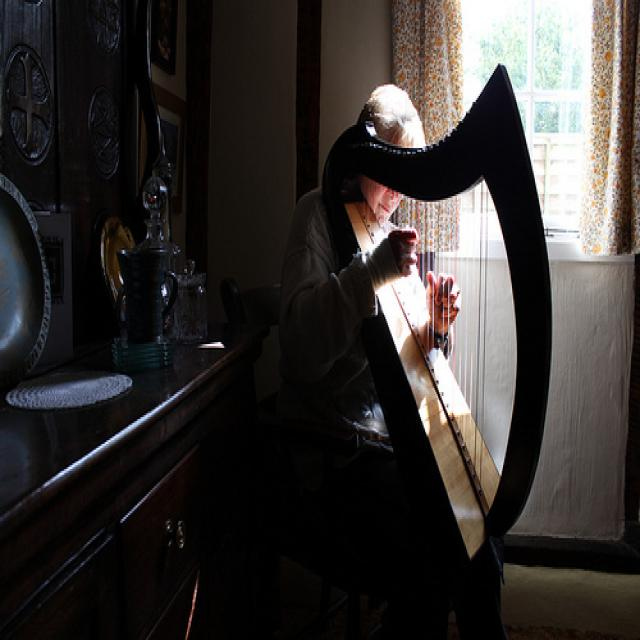People: (272, 67, 437, 439)
Table: (0, 203, 297, 640)
